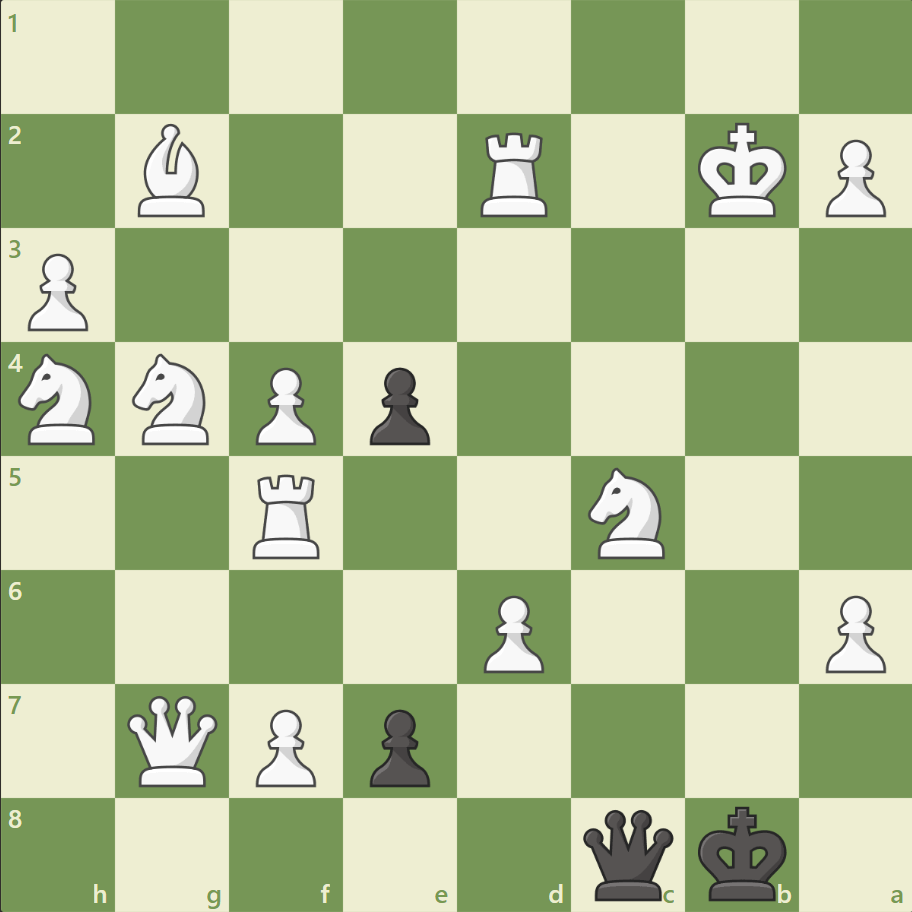B: (131, 120, 215, 222)
K: (692, 117, 792, 225)
N: (124, 348, 222, 450), (579, 461, 676, 564), (11, 348, 108, 450)
P: (247, 700, 322, 791), (474, 586, 549, 677), (247, 359, 322, 450), (20, 246, 95, 337), (815, 586, 889, 677), (815, 132, 889, 223)
Q: (124, 690, 223, 789)
R: (246, 466, 329, 563), (473, 125, 556, 222)
k: (692, 798, 792, 906)
p: (361, 700, 435, 791), (361, 359, 435, 450)
q: (578, 804, 677, 903)
